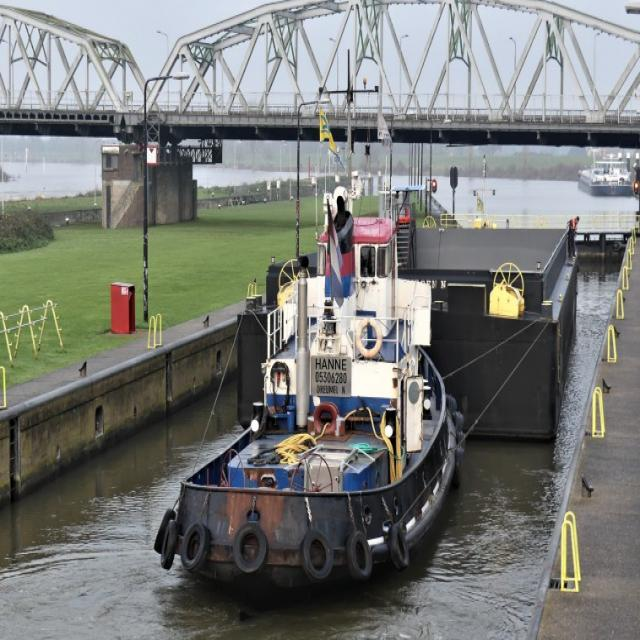tugboat: (152, 85, 469, 611)
